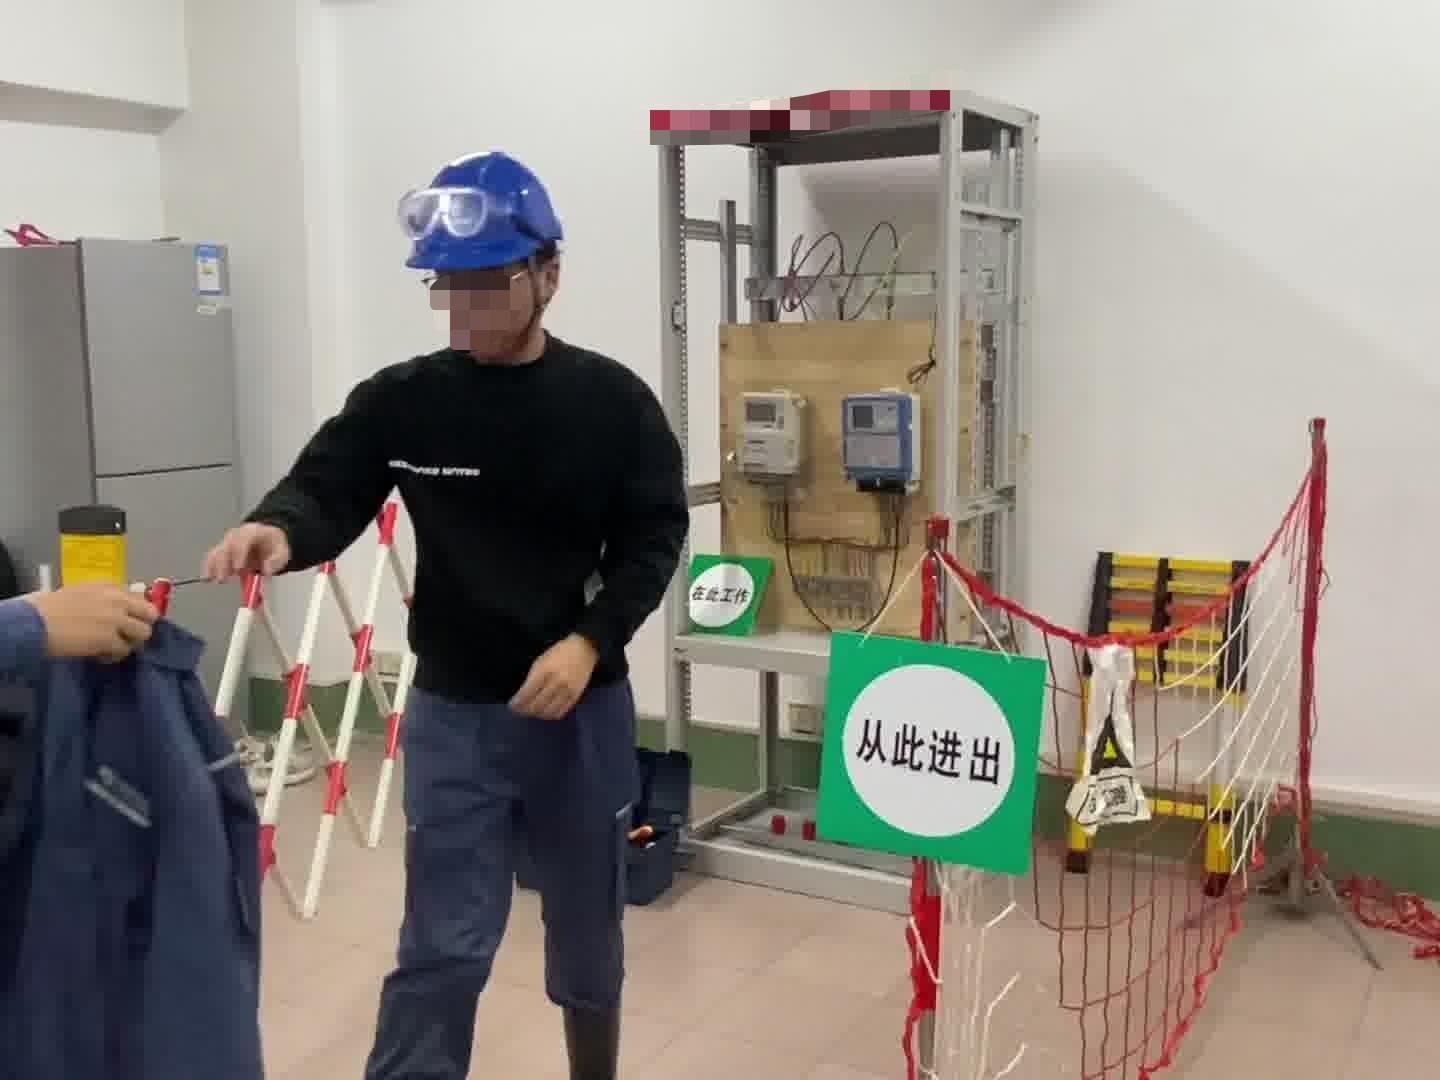halt: (401, 151, 576, 365)
inear: (527, 252, 565, 323)
